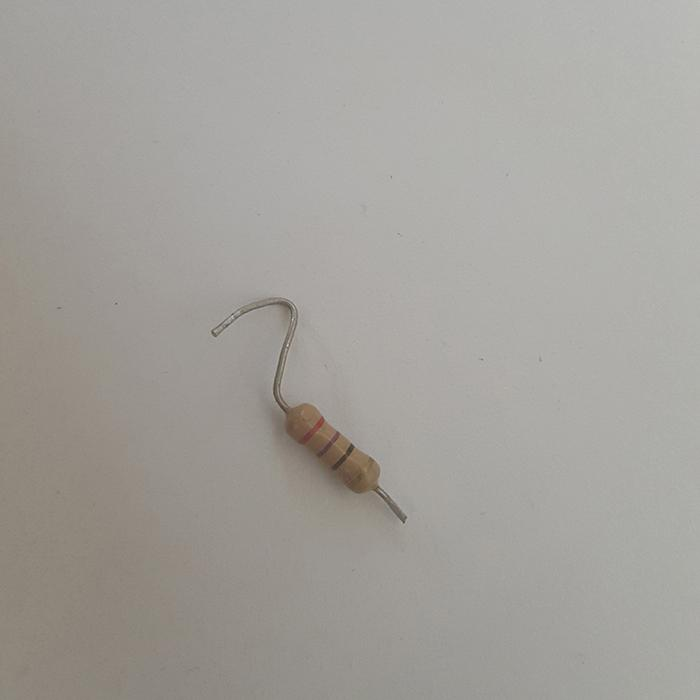resistor: (284, 400, 379, 495)
